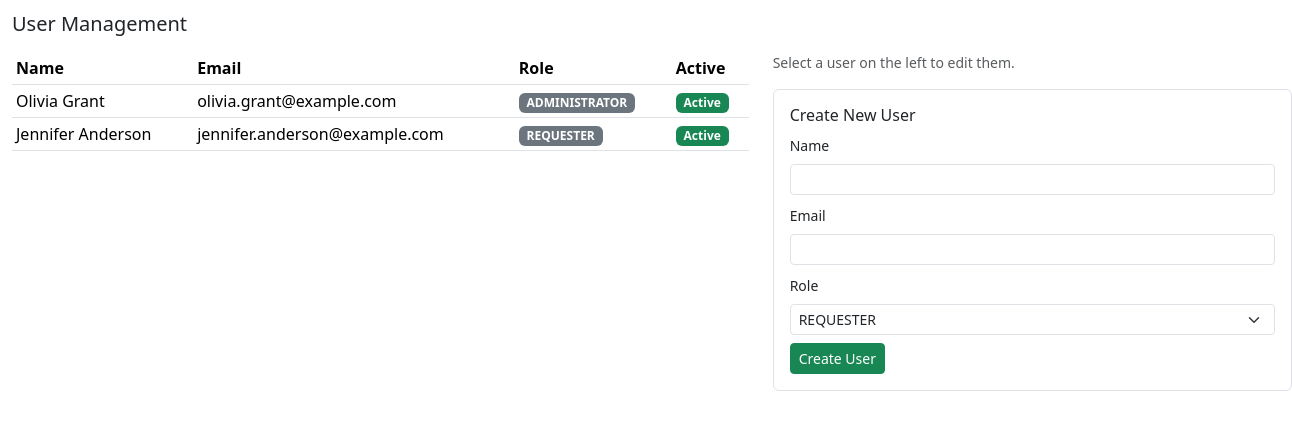
Test: AdminUsers › AC-13: creating a user with a duplicate email shows an inline error
The image size is (1292, 437).
Check: the number of rows with test id "admin-users-row" is 2, box [12, 84, 749, 118]; [12, 118, 749, 151]
Type "Duplicate Attempt" into the field with test id "admin-create-name".
click(1032, 180); type("Duplicate Attempt")  # box [790, 164, 1275, 195]
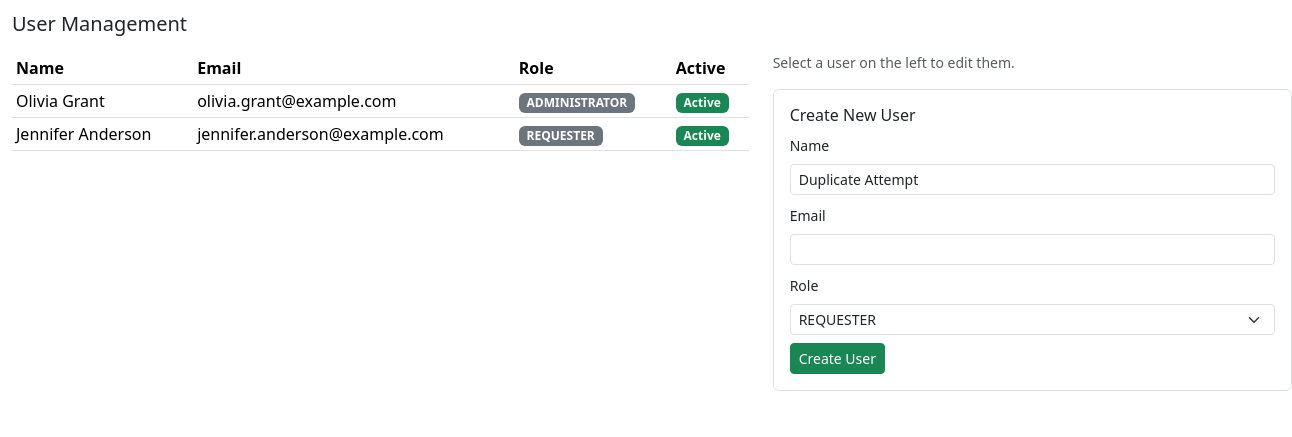
Type "jennifer.anderson@example.com" into the field with test id "admin-create-email".
click(1032, 250); type("jennifer.anderson@example.com")  # box [790, 234, 1275, 265]
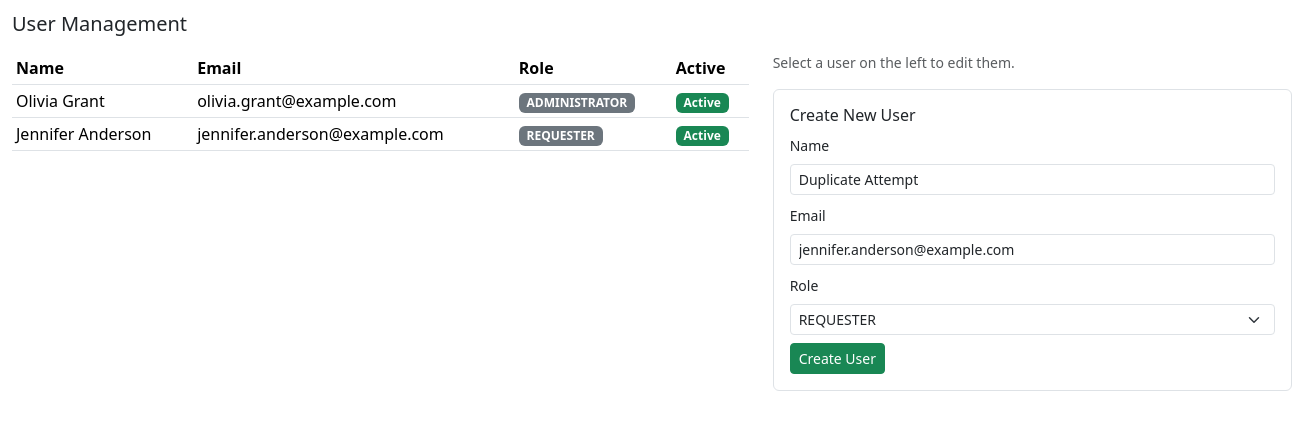
Click the button with test id "admin-create-submit".
click(837, 359)  # box [790, 343, 885, 374]
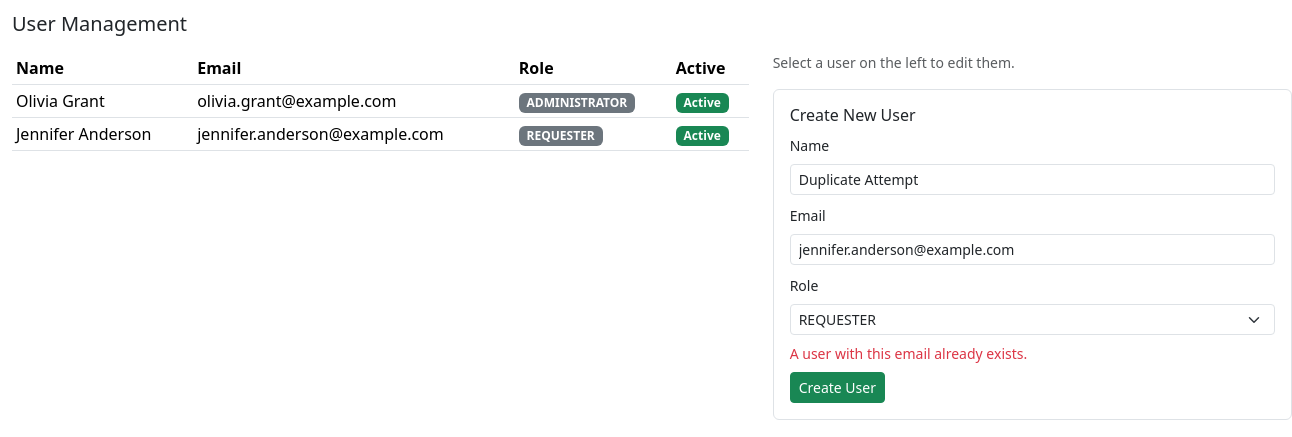
Check: the text "A user with this email already exists." is shown, box [790, 344, 1027, 363]
